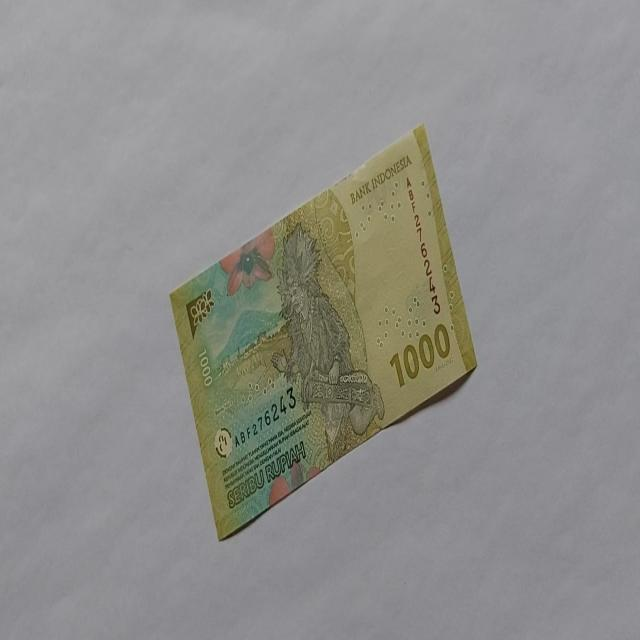seribu rupiah kertas: (168, 121, 478, 542)
